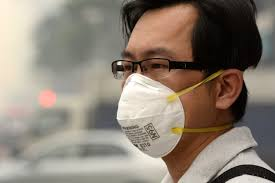n95: (112, 71, 187, 161)
